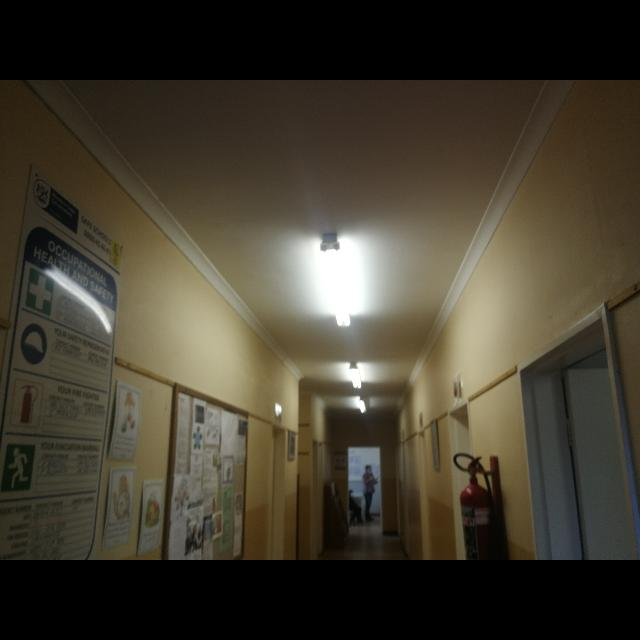Straight-Tube-Fluorescent-Lamp: (300, 230, 372, 338), (345, 359, 371, 397), (354, 396, 370, 414)
